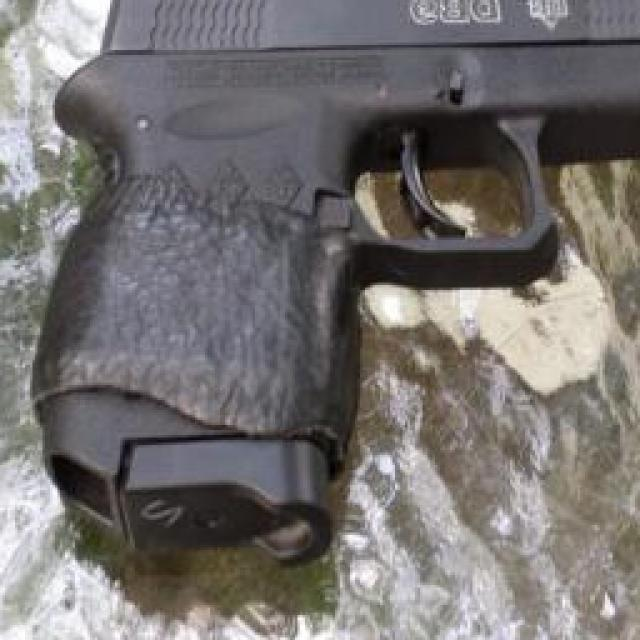pistol: (42, 0, 640, 558)
